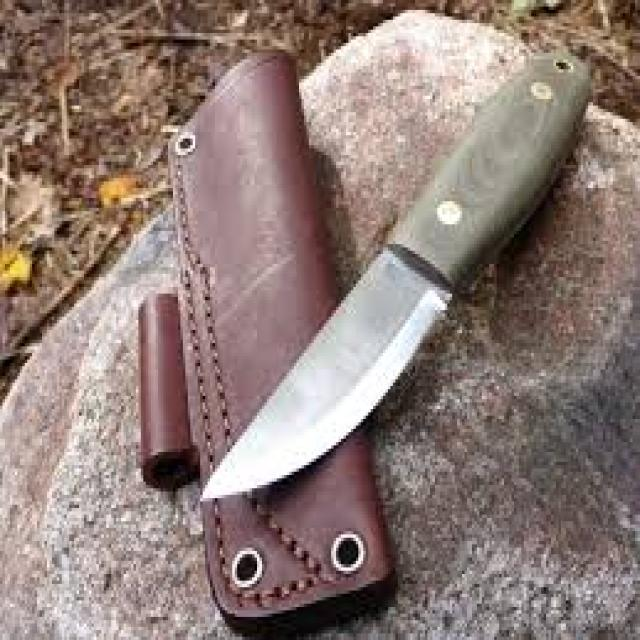knives: (192, 110, 591, 516)
